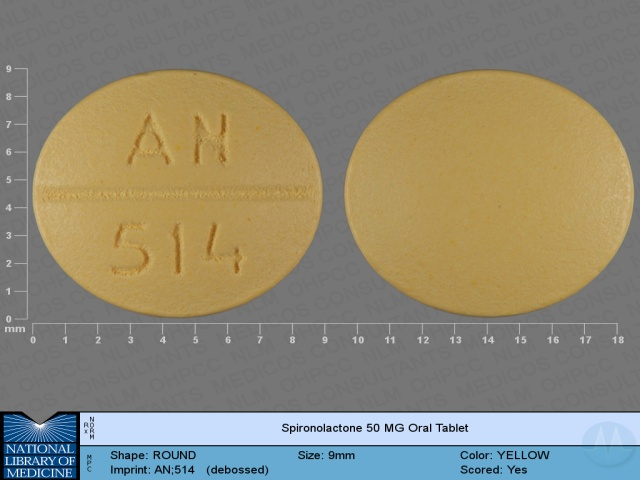1: (166, 218, 190, 280)
4: (203, 217, 242, 272)
5: (105, 219, 155, 284)
A: (121, 111, 175, 173)
N: (189, 109, 235, 170)
|: (32, 181, 310, 207)
